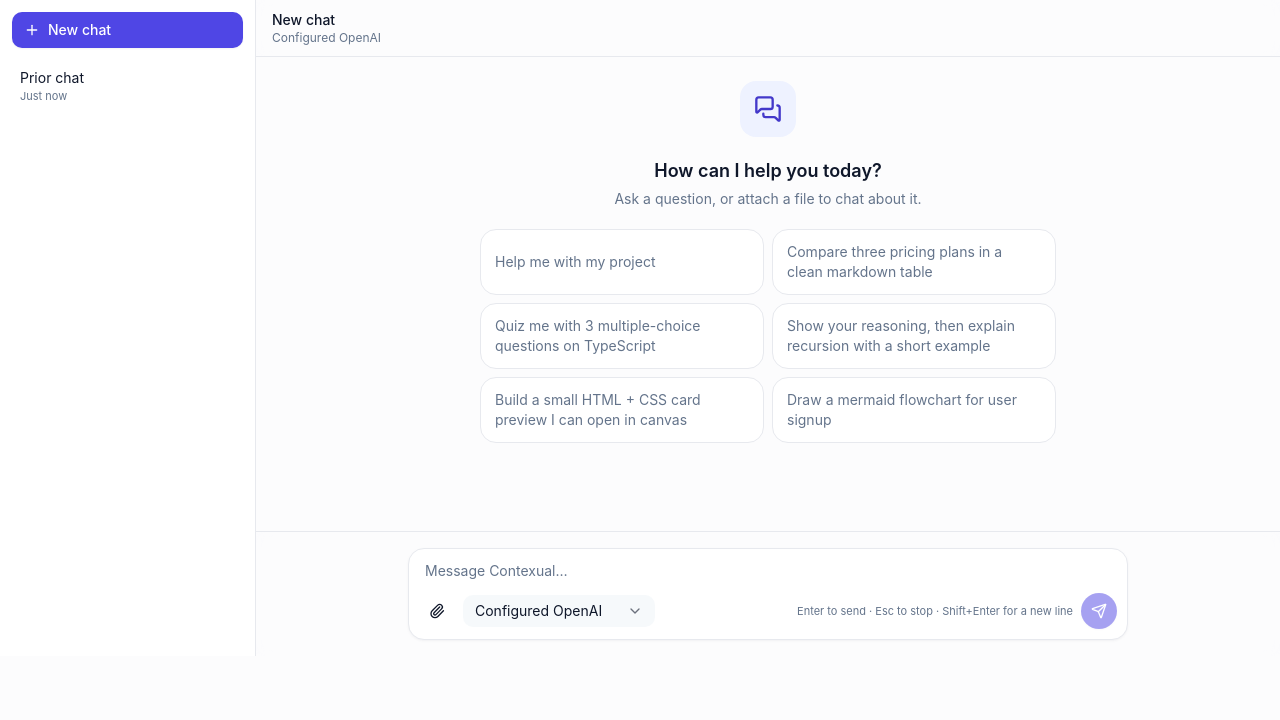
Test: ChatClient model catalog › renders assistant markdown as formatted content instead of raw syntax
Click the button "Prior chat Just now": point(110, 86) [8,60,213,112]
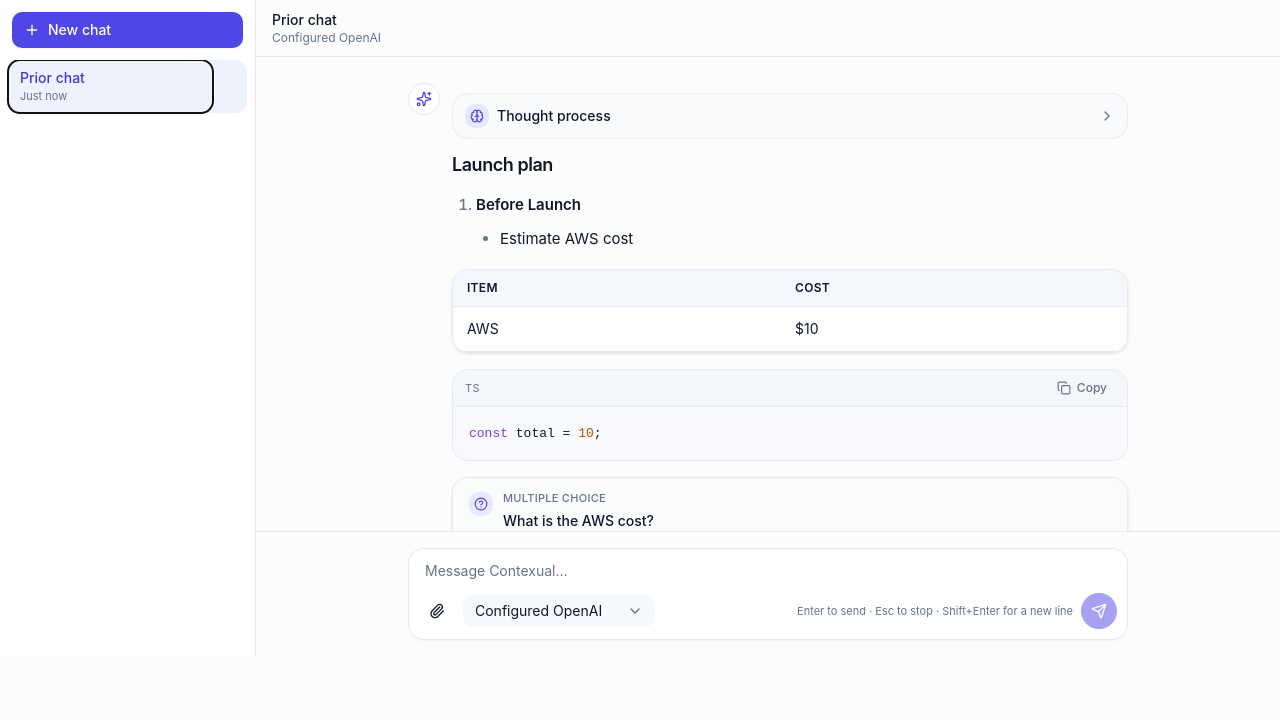
Expected: the heading "Launch plan" is shown, [452,154,553,175]
Expected: the button "Thought process" is shown, [453,94,1127,138]
Expected: the table is shown, [453,270,1127,352]
